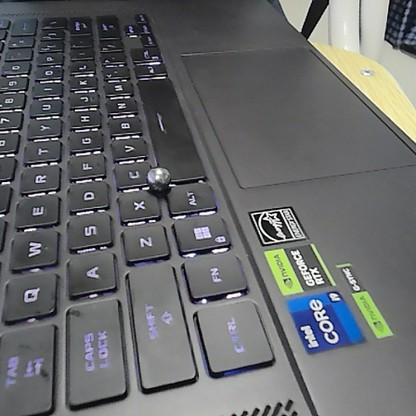ironball: (144, 165, 173, 192)
